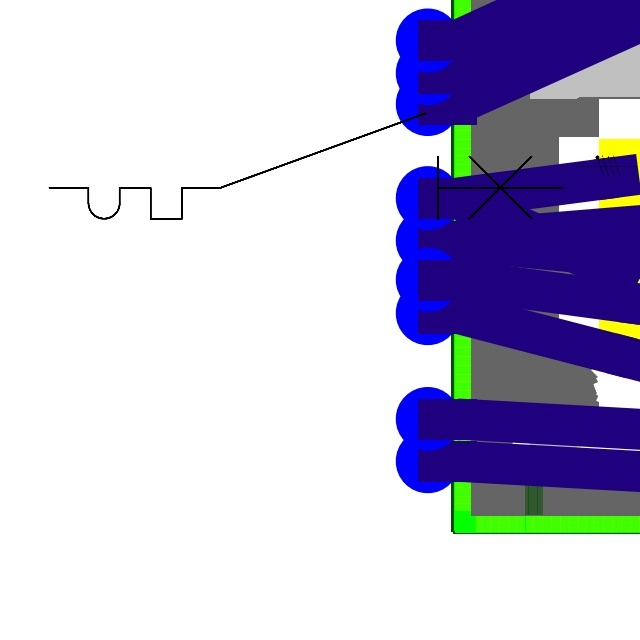interruptor_termomagnetico: (36, 100, 576, 232)
